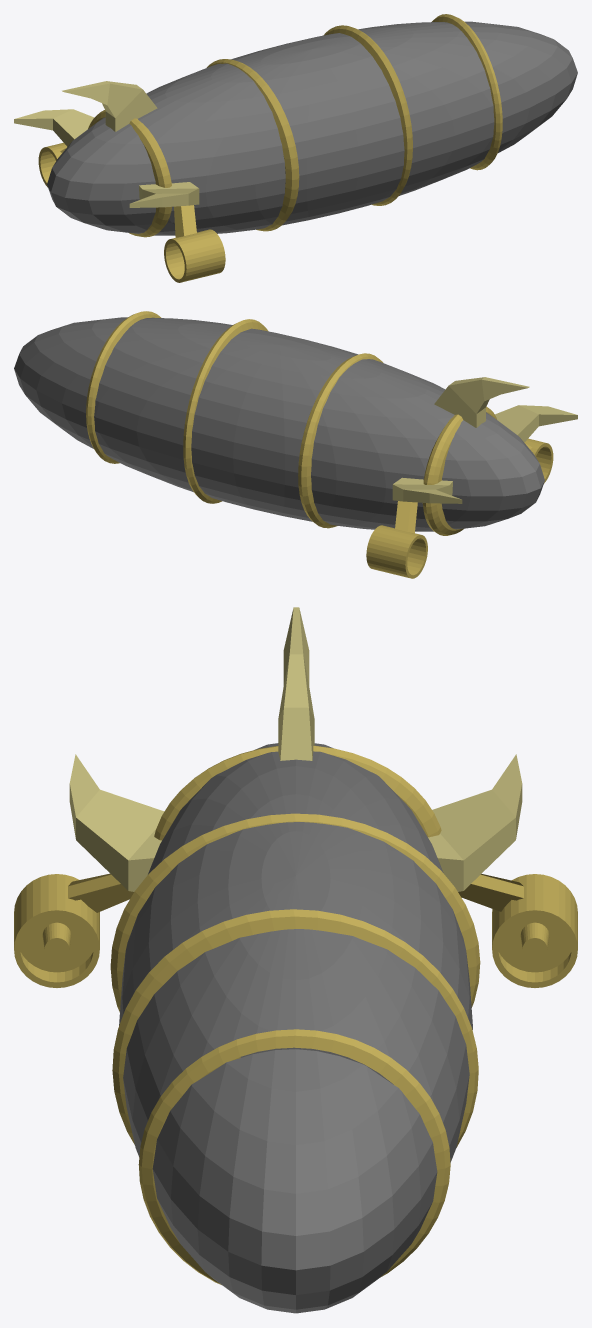
The model's file is newballoonlel.fbx.
3 views of the same model, one above another, from view 1: azimuth 30°, elevation 25°; view 2: azimuth 150°, elevation 25°; view 3: azimuth 270°, elevation 25° (orthographic). The views are drawn at different scales.
Visible parts, largest first — view 1: Cube.001; view 2: Cube.001; view 3: Cube.001.
Boxes of the visible parts, bbox=[...] form: Cube.001: bbox=[14, 14, 577, 282]; Cube.001: bbox=[14, 311, 577, 578]; Cube.001: bbox=[14, 607, 577, 1313].
Size of the model in its own units: 24485 by 8114 by 11996.
